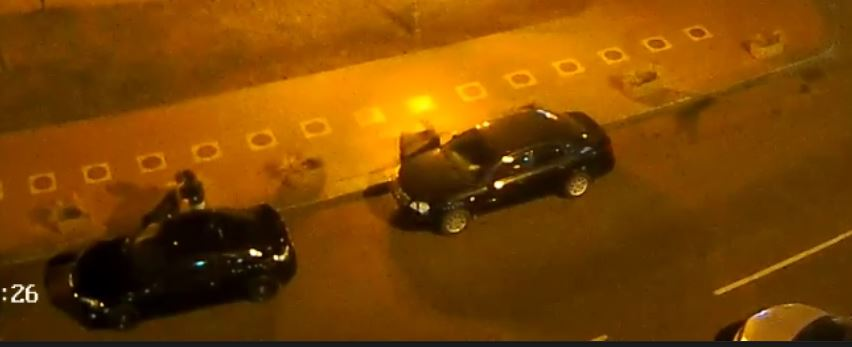car: (67, 206, 297, 332), (392, 107, 615, 236)
